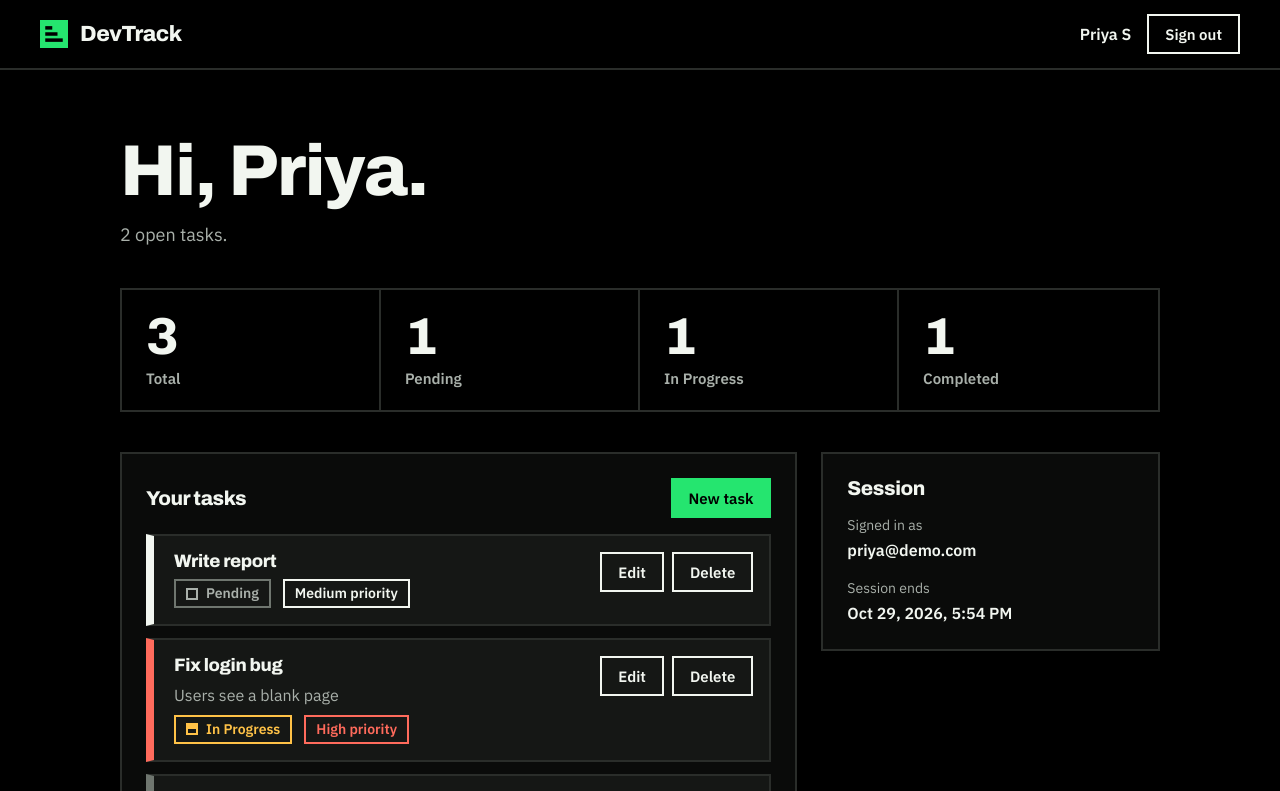
Test: Dashboard: edit › removes a task from the screen when the server says it no longer exists (404)
The image size is (1280, 791).
Expected: the heading "Hi, Priya." is shown, x1=120 y1=132 x2=428 y2=210
Click the button with aria-label "Edit Write report" at (632, 572), box x1=600 y1=552 x2=664 y2=592
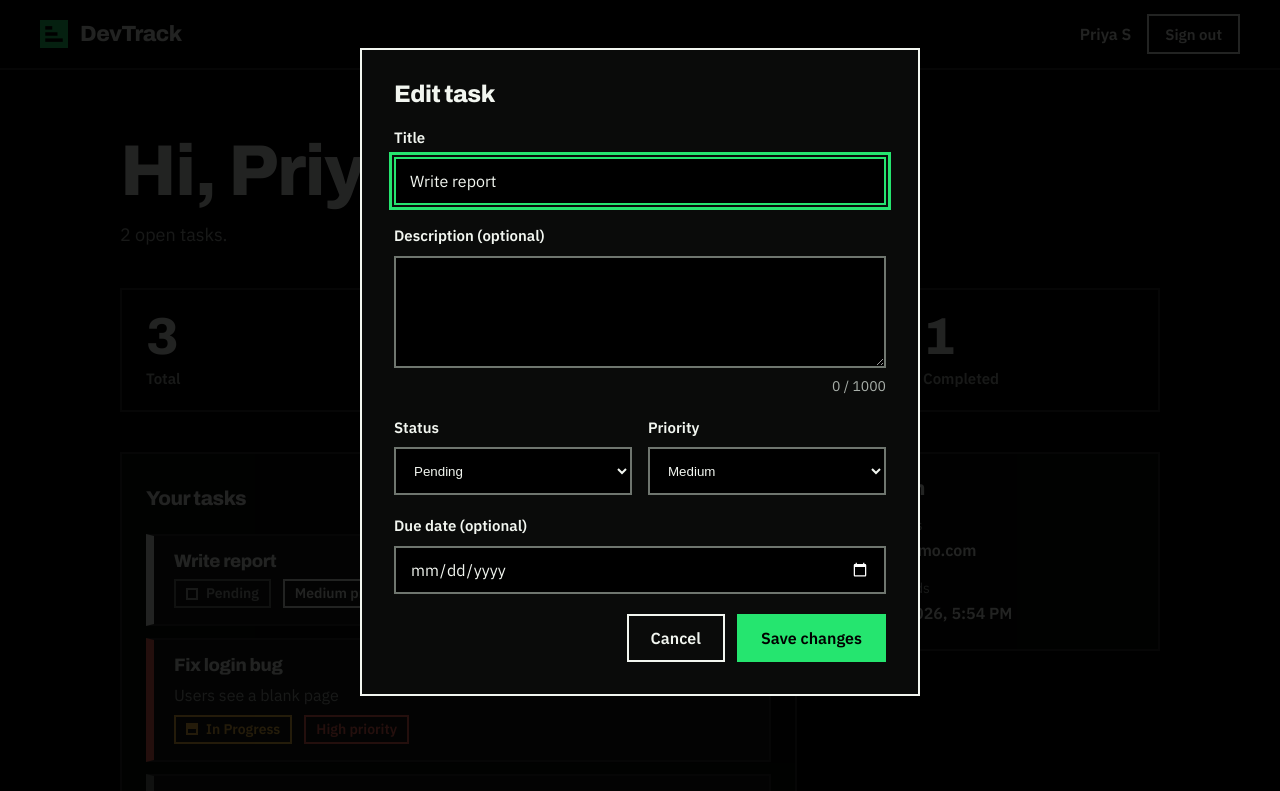
Click the button "Save changes" at (812, 638), box x1=737 y1=614 x2=886 y2=662
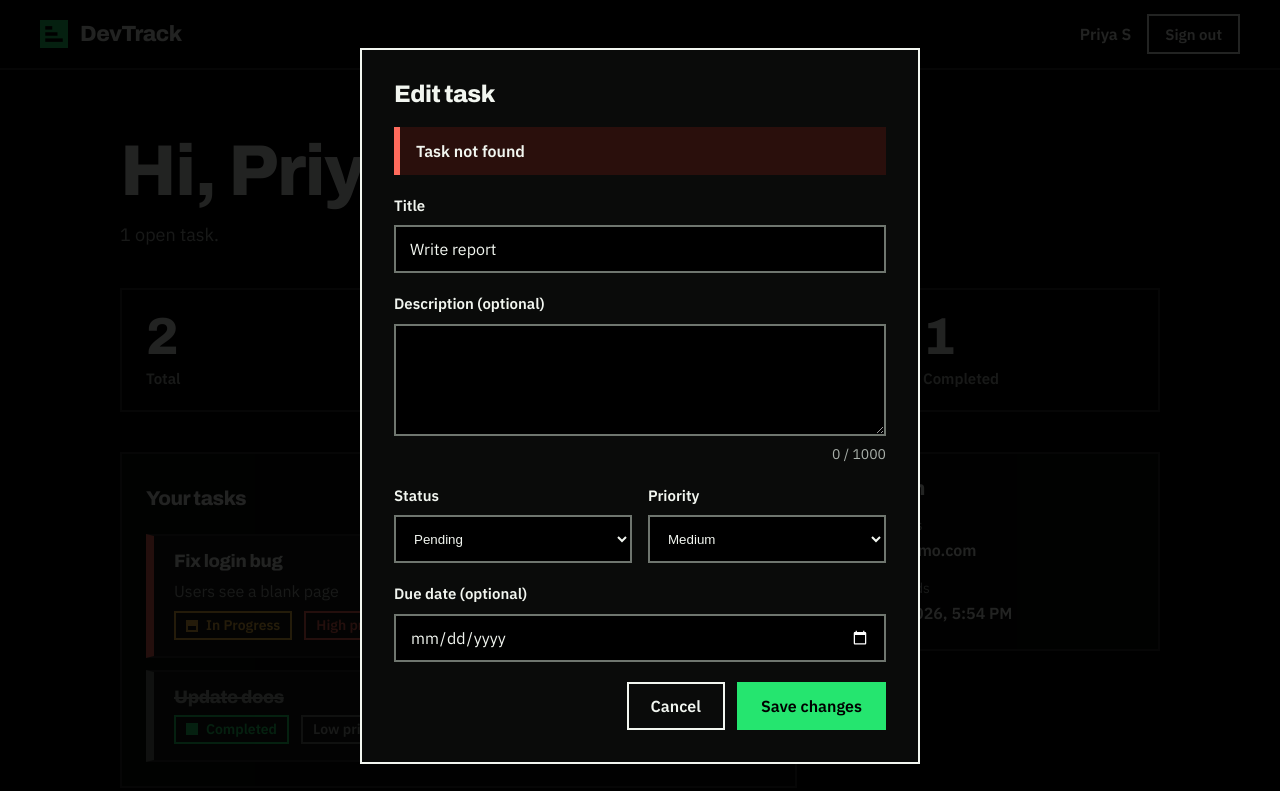
Expected: the message reads "Task not found", x1=416 y1=141 x2=525 y2=161
Expected: the number of list items is 2, x1=146 y1=534 x2=771 y2=658; x1=146 y1=670 x2=771 y2=762
